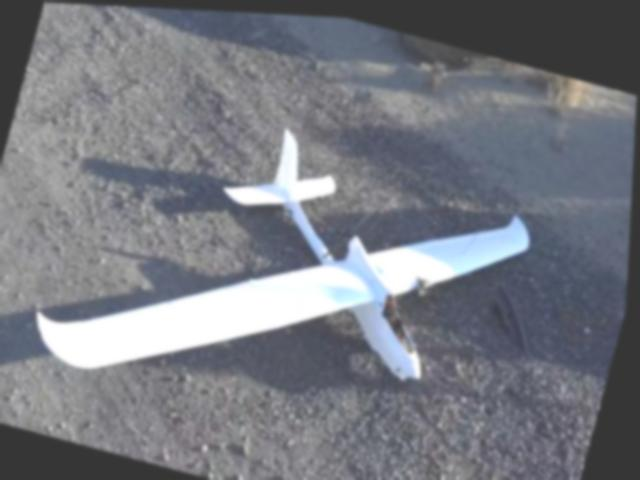uav: (8, 57, 558, 480)
